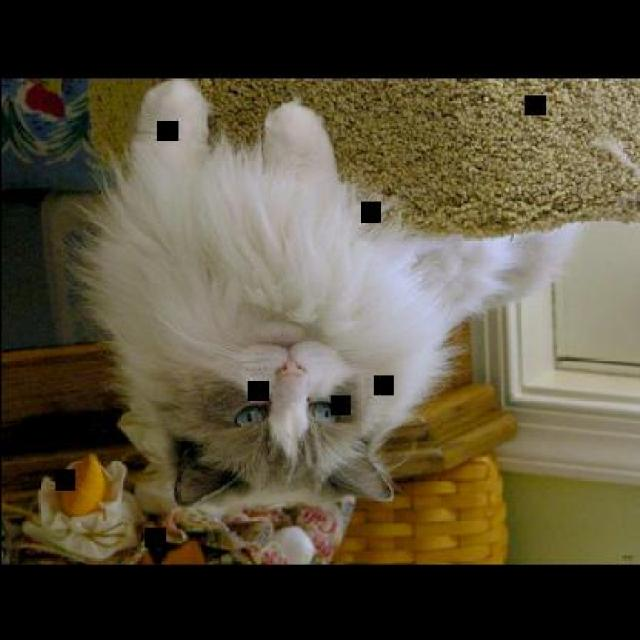unauthorized: (61, 77, 584, 520)
